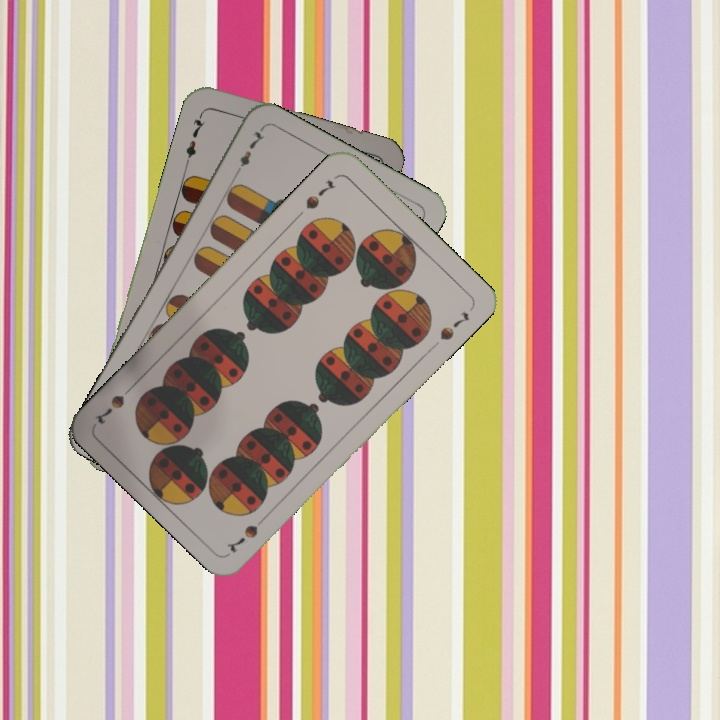E7: (230, 125, 267, 179), (181, 108, 207, 166)
S7: (222, 509, 271, 555), (301, 176, 338, 212)
